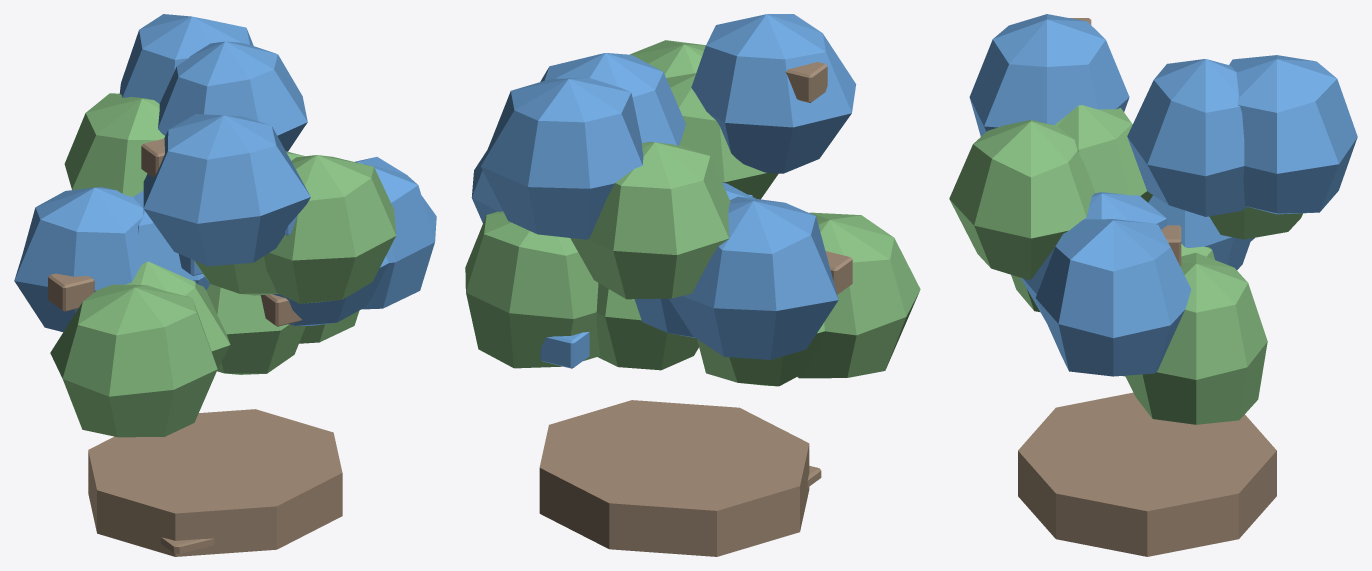
Rendered from b08_hydrangea.glb.
3 views of the same model, side by side, from view 1: azimuth 30°, elevation 25°; view 2: azimuth 150°, elevation 25°; view 3: azimuth 270°, elevation 25° (orthographic). The views are drawn at different scales.
Parts seen in each view (by area): view 1: b08_hydrangea; view 2: b08_hydrangea; view 3: b08_hydrangea.
Boxes of the visible parts, x1=… form: b08_hydrangea: x1=14, y1=14, x2=436, y2=556; b08_hydrangea: x1=465, y1=14, x2=920, y2=556; b08_hydrangea: x1=949, y1=14, x2=1357, y2=556.
Size of the model in its own units: 1.18 by 1.25 by 1.02.
